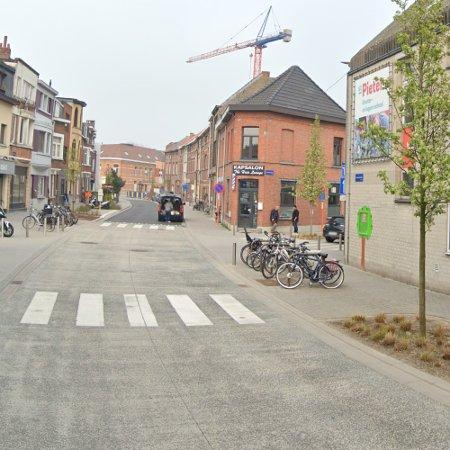crosswalks: (0, 289, 274, 330)
